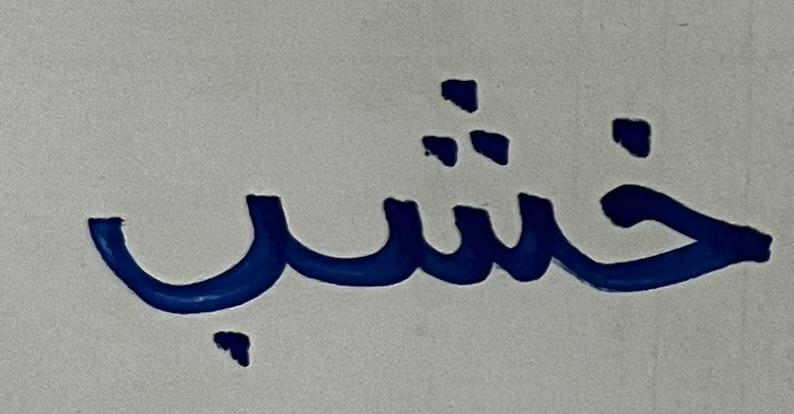beh: (68, 127, 323, 381)
khah: (574, 81, 775, 349)
sheen: (333, 21, 569, 344)
